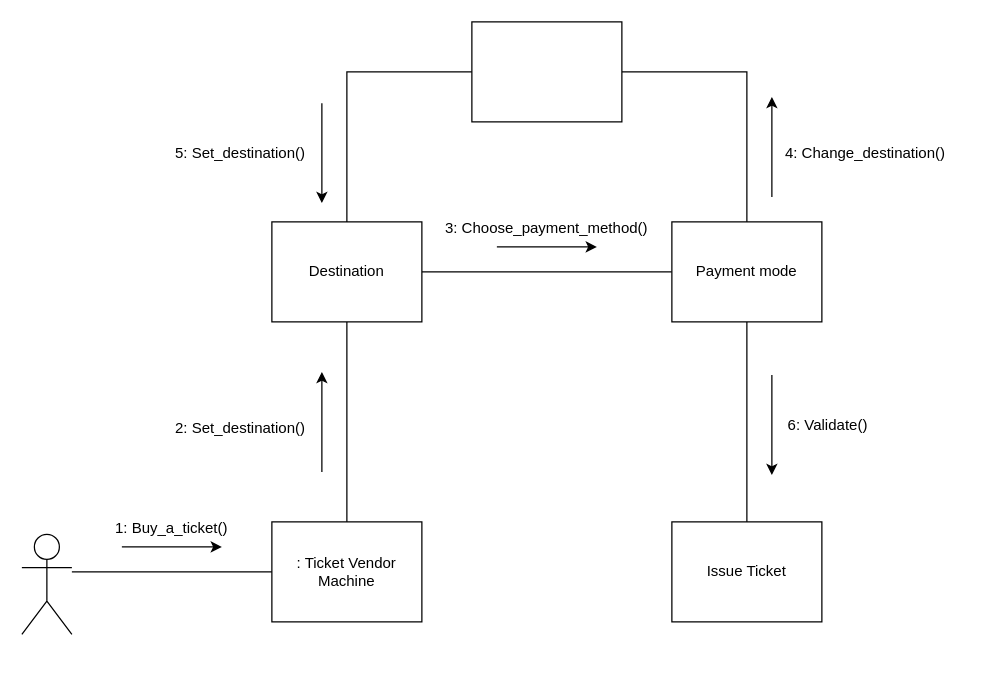
This 981x683 diagram has some shape labels left out. The shapes that lost their labels are listed below. From the top down, each one's centre as x and y in pixels, then its label:
pixel 546 71: Turn back
pixel 46 583: User
